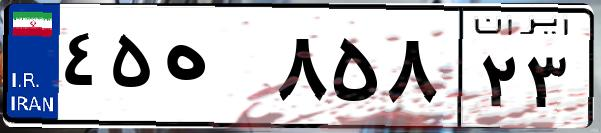2: (475, 38, 525, 113)
3: (525, 38, 570, 115)
4: (57, 26, 110, 100)
5: (330, 28, 385, 110), (110, 28, 158, 98)
8: (270, 28, 330, 110), (385, 28, 445, 110)
ه: (158, 20, 270, 120)
